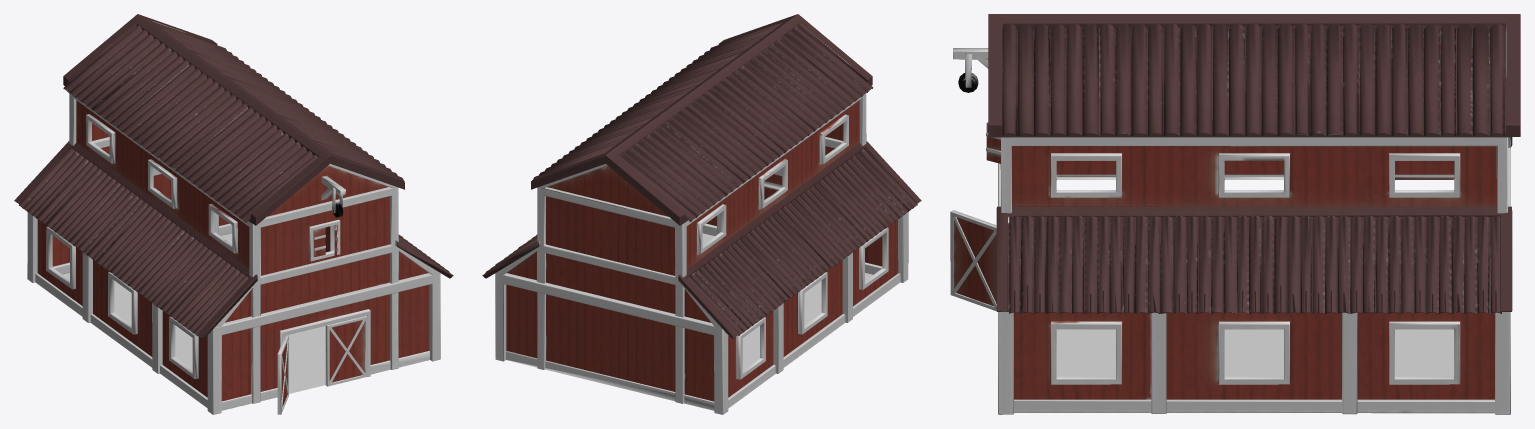
File: barn.glb
3 renders of one model, left to right at view 1: azimuth 30°, elevation 25°; view 2: azimuth 150°, elevation 25°; view 3: azimuth 270°, elevation 25°, orthographic. The views are drawn at different scales.
Parts seen in each view (by area): view 1: Barn_001; view 2: Barn_001; view 3: Barn_001.
Boxes of the visible parts, x1,y1,x2,y2 form: Barn_001: (14,14,453,414); Barn_001: (482,14,921,414); Barn_001: (950,14,1520,414).
Bounding box in the file's own units: 3.2 × 2.82 × 4.5.
1 material, 1 textured.
